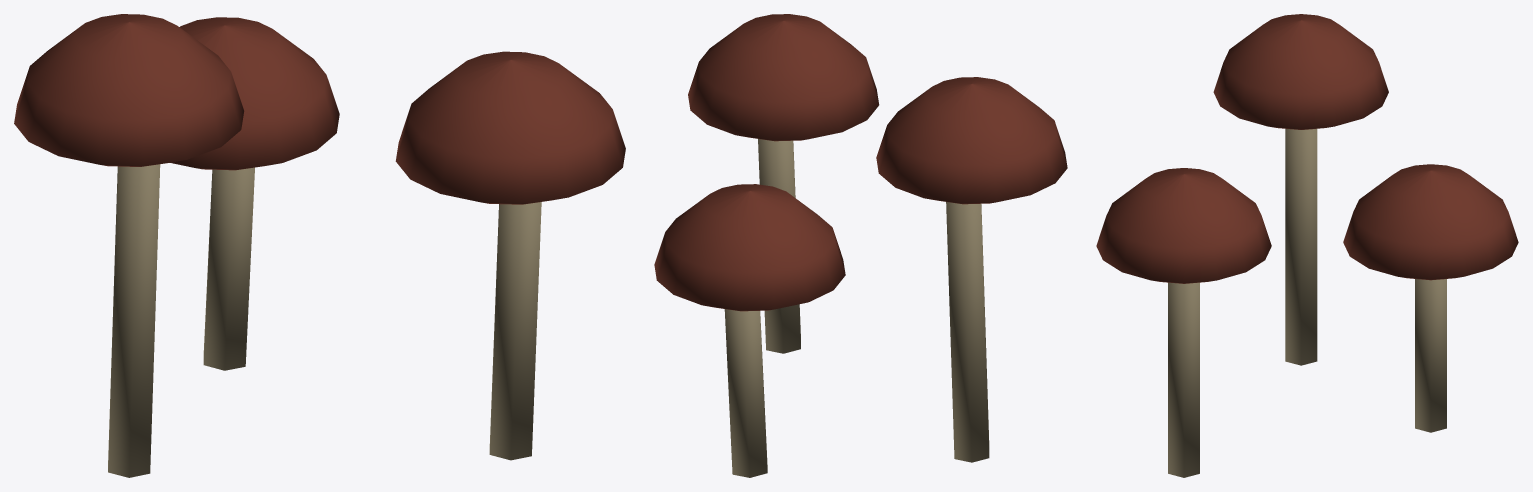
The model's file is mushroom.glb.
The picture shows the model from 3 angles, left to right: view 1: azimuth 30°, elevation 25°; view 2: azimuth 150°, elevation 25°; view 3: azimuth 270°, elevation 25°; orthographic projection. The views are drawn at different scales.
Visible parts, largest first — view 1: MV_mushroom; view 2: MV_mushroom; view 3: MV_mushroom.
Part boxes in pixels (x1,y1,x2,y2): MV_mushroom: (14, 14, 625, 477); MV_mushroom: (654, 14, 1067, 477); MV_mushroom: (1096, 14, 1518, 477).
Bounding box in the file's own units: 0.4731 × 0.4 × 0.4531.
